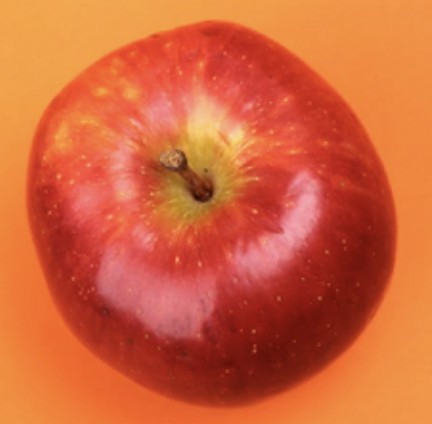fresh_apple: (25, 22, 403, 403)
